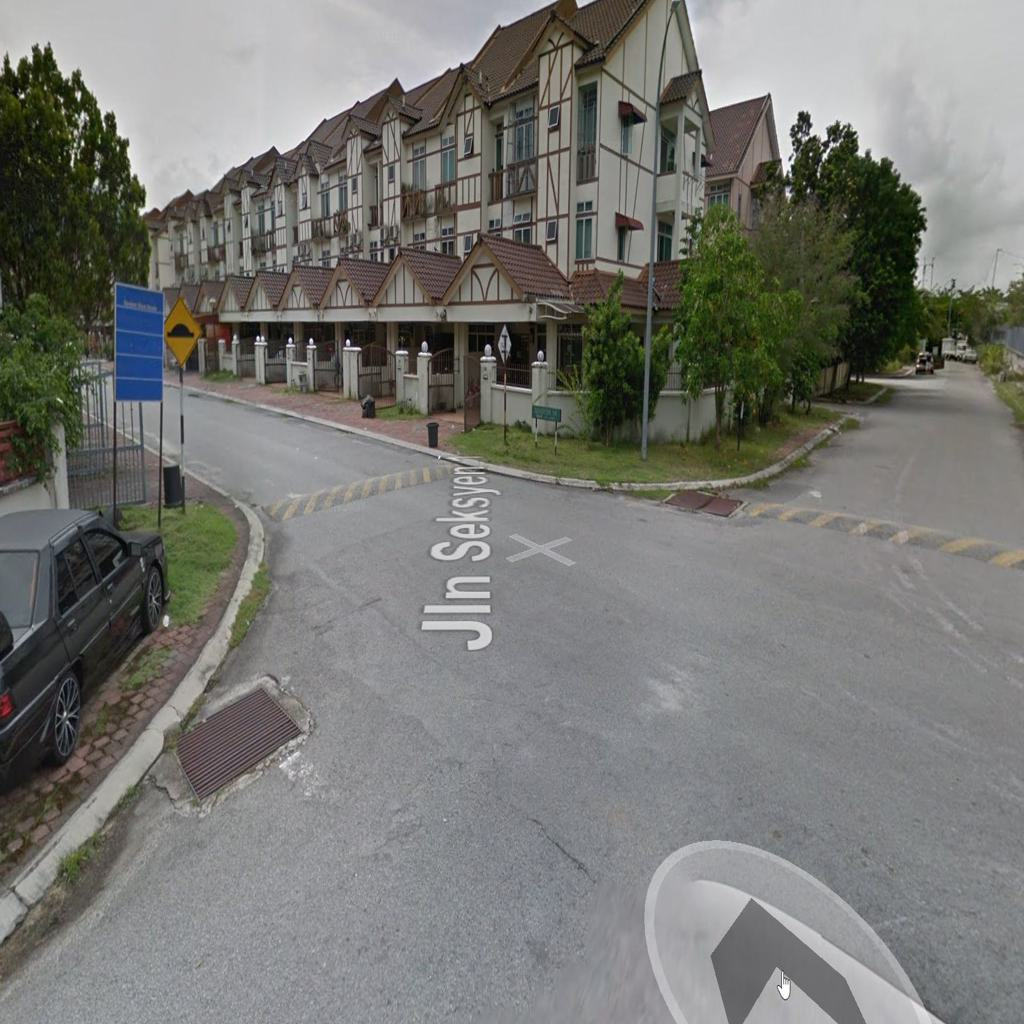Junction: (184, 419, 717, 811)
